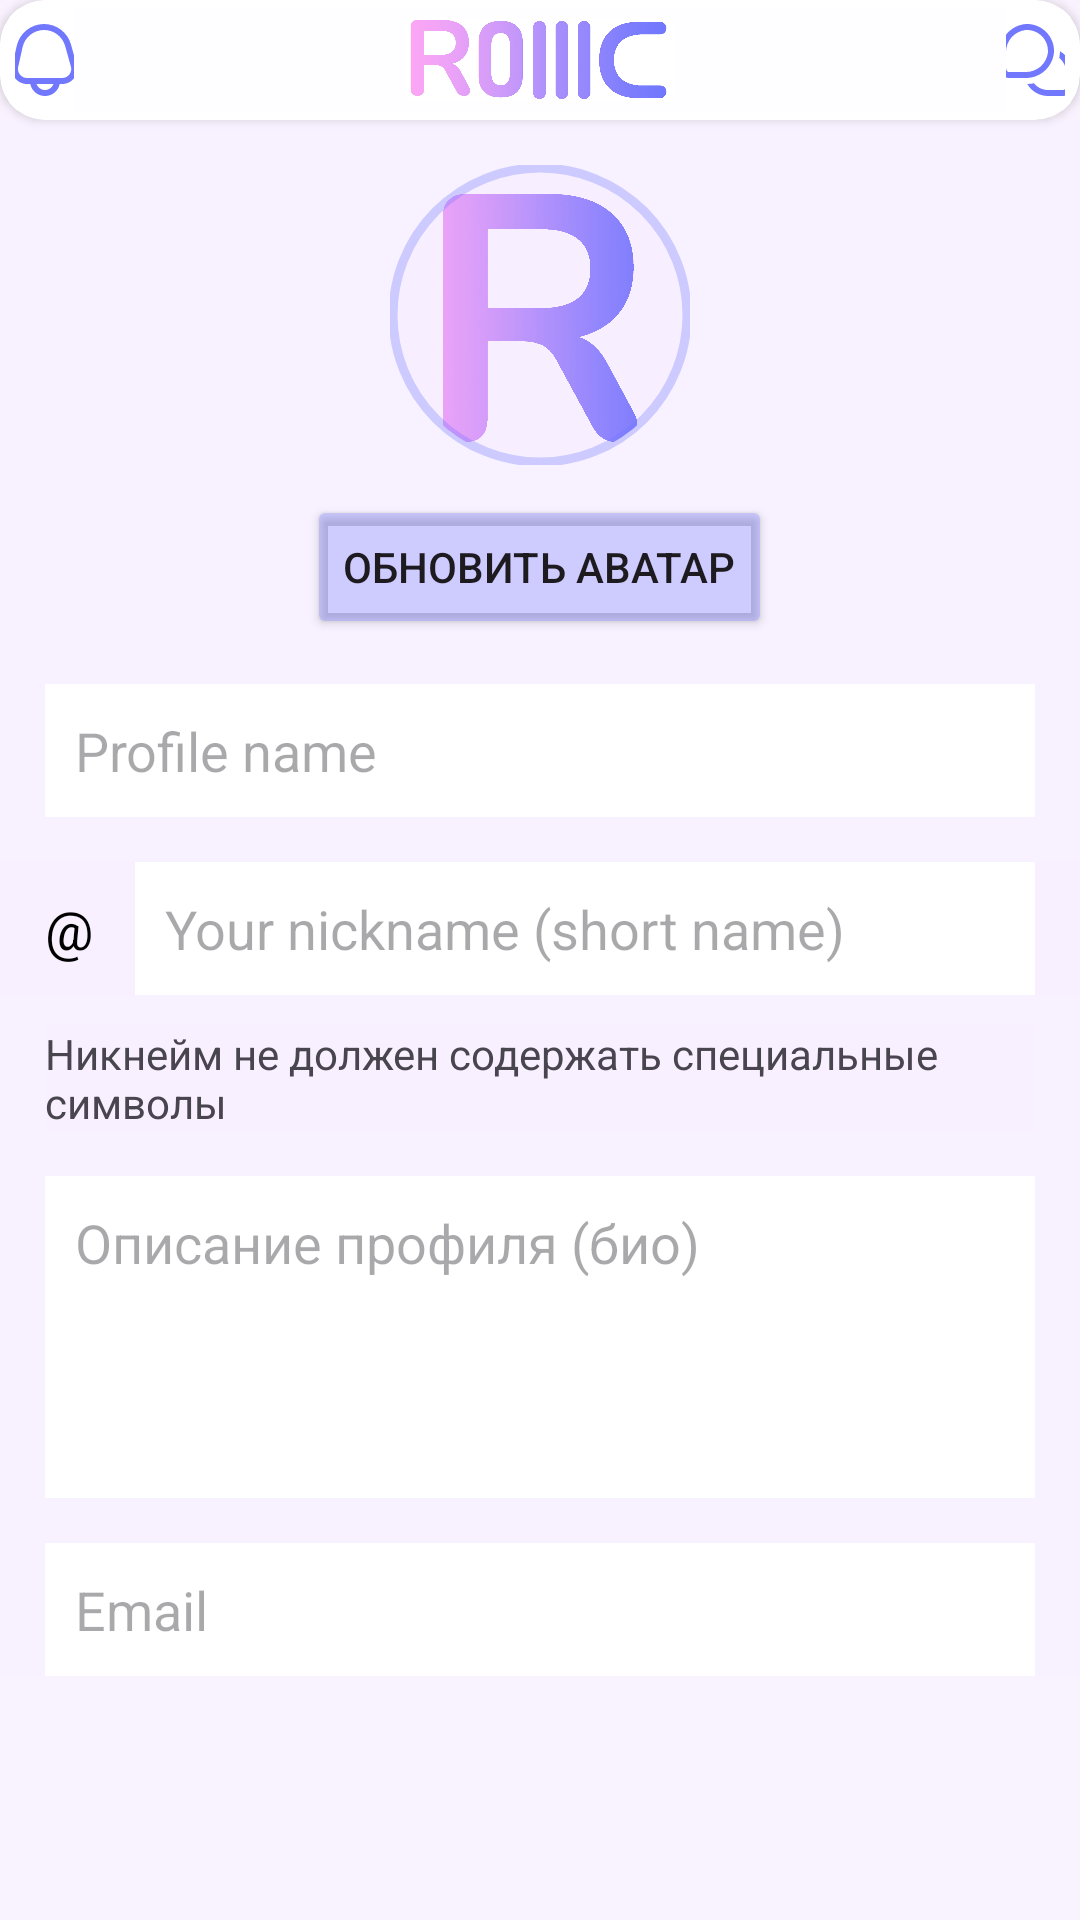

Named icons in this screenshot (1080×1920) and their bounding boxes, BBox(x1, y1, x2, y2):
Notifications: BBox(15, 24, 74, 96)
